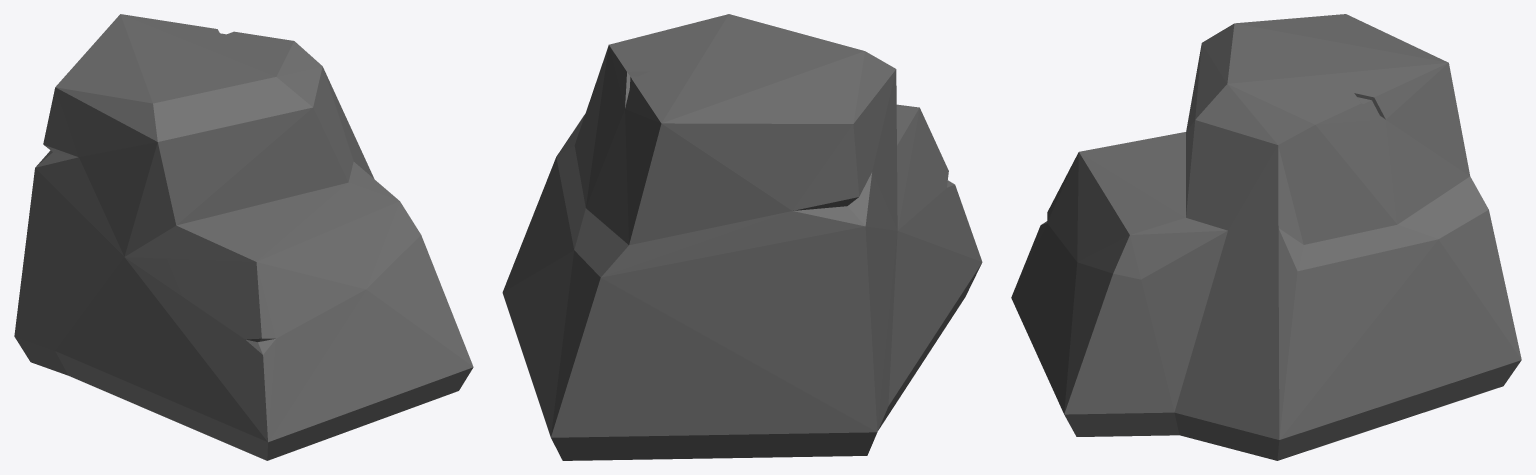
File: rock__rock9_natural_medium.glb
The picture shows the model from 3 angles, left to right: view 1: azimuth 30°, elevation 25°; view 2: azimuth 150°, elevation 25°; view 3: azimuth 270°, elevation 25°; orthographic projection. The views are drawn at different scales.
Visible parts, largest first — view 1: rock9.natural.medium; view 2: rock9.natural.medium; view 3: rock9.natural.medium.
Part boxes in pixels (x1=…): rock9.natural.medium: x1=14, y1=14, x2=473, y2=460; rock9.natural.medium: x1=502, y1=14, x2=982, y2=460; rock9.natural.medium: x1=1011, y1=14, x2=1521, y2=460.
Size of the model in its own units: 2.32 by 1.76 by 2.73.
Materials: 1 (1 with a texture image).
